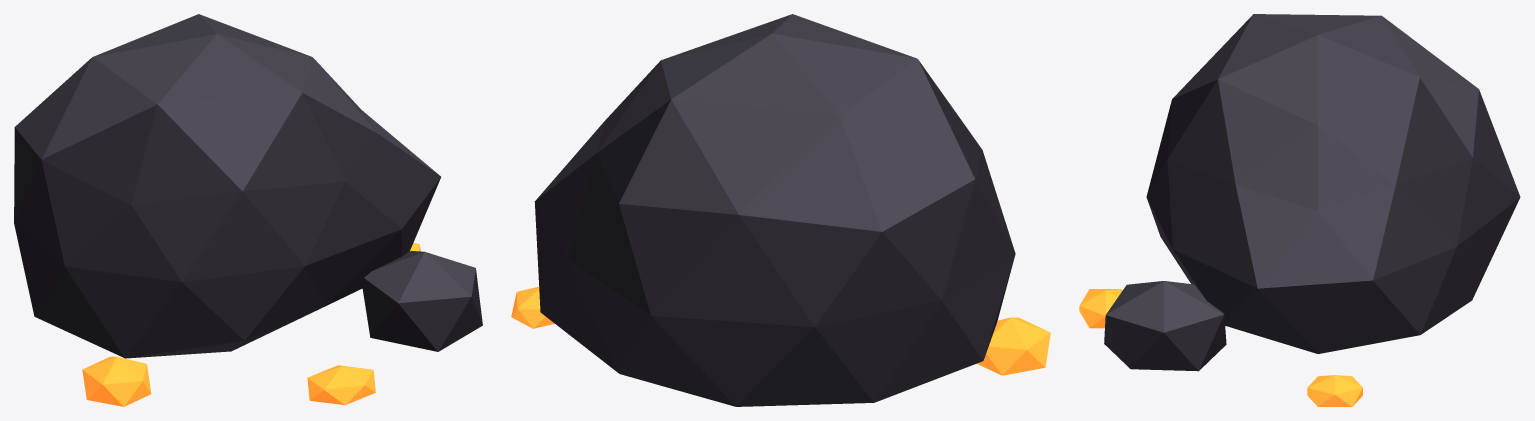
Rendered from lava_rock_a.glb.
3 views of the same model, side by side, from view 1: azimuth 30°, elevation 25°; view 2: azimuth 150°, elevation 25°; view 3: azimuth 270°, elevation 25° (orthographic). The views are drawn at different scales.
Visible parts, largest first — view 1: lava_rock_a; view 2: lava_rock_a; view 3: lava_rock_a.
Boxes of the visible parts, left/top/right/bottom form: lava_rock_a: left=14, top=14, right=482, bottom=406; lava_rock_a: left=511, top=14, right=1050, bottom=406; lava_rock_a: left=1079, top=14, right=1520, bottom=406.
Size of the model in its own units: 1.29 by 0.8822 by 1.29.
